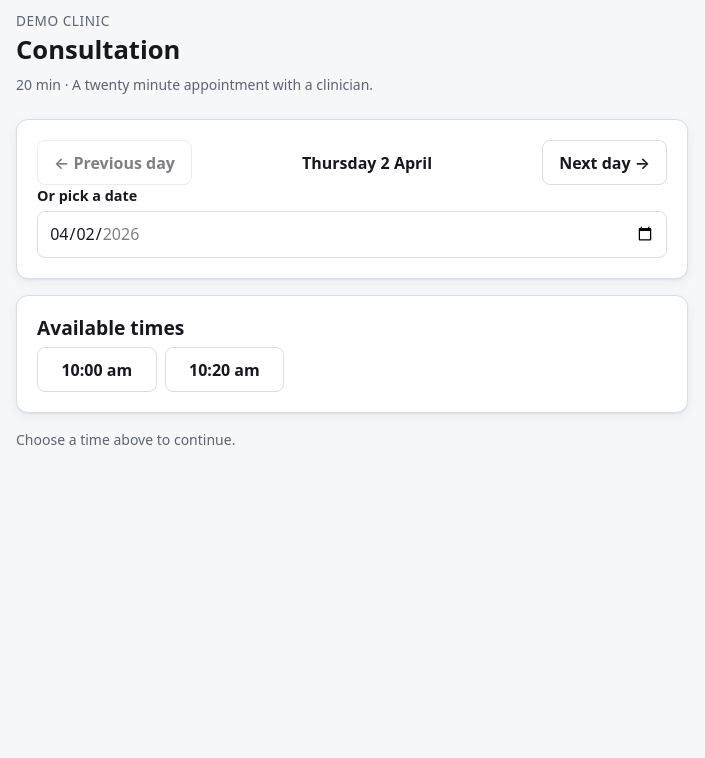
Test: BookPage › hides the details form until a time is chosen
Expected: the field labelled "your name" is not shown
Click the button "10:00 am".
click(97, 370)  # box [37,347,157,392]
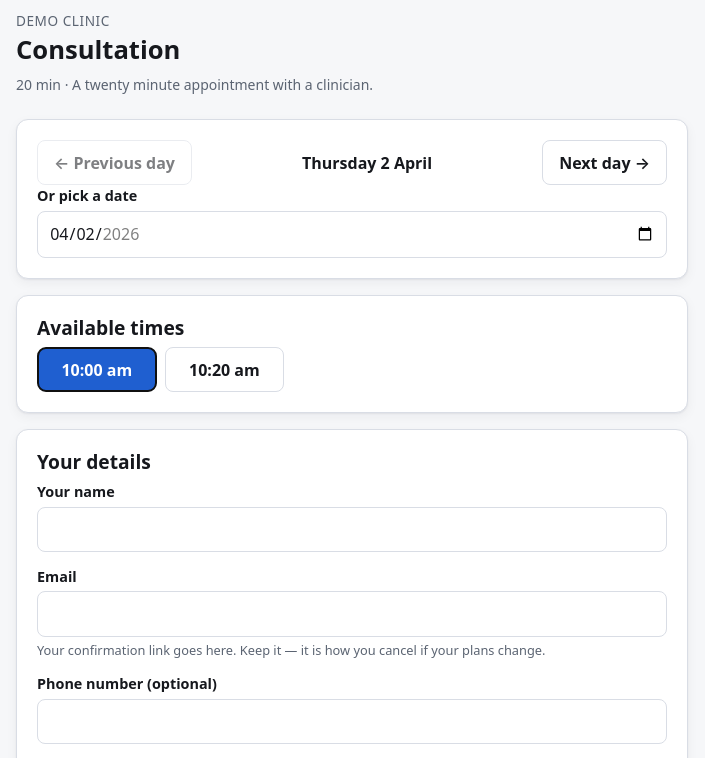
Result: the field labelled "Your name" is shown at [37,507,667,552]
